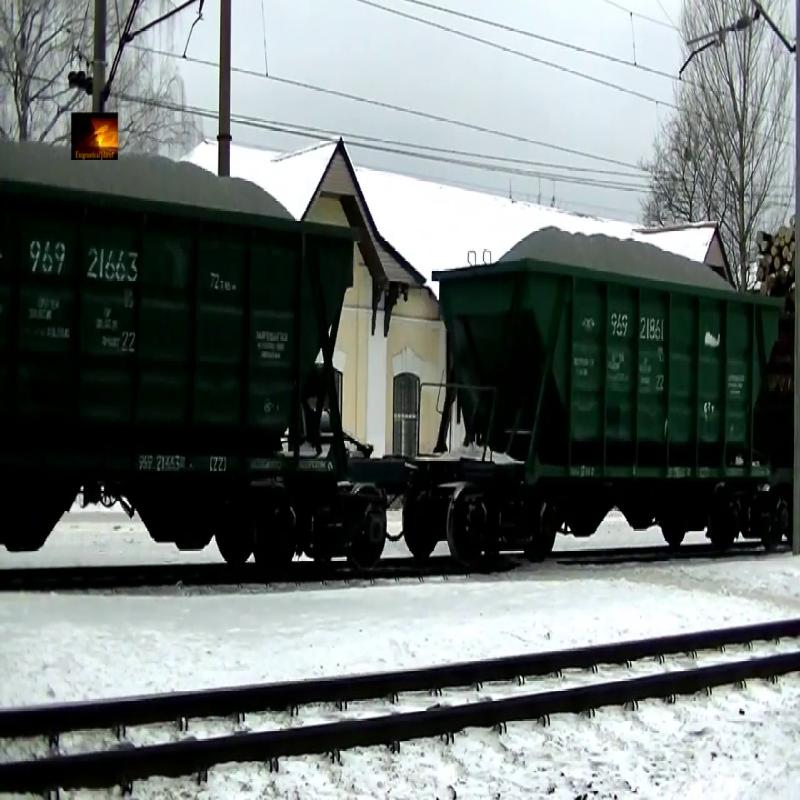train: (1, 134, 369, 575), (432, 242, 788, 564)
